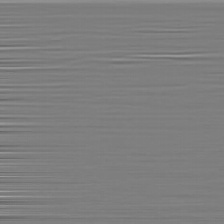cavities: (90, 26, 162, 135)
